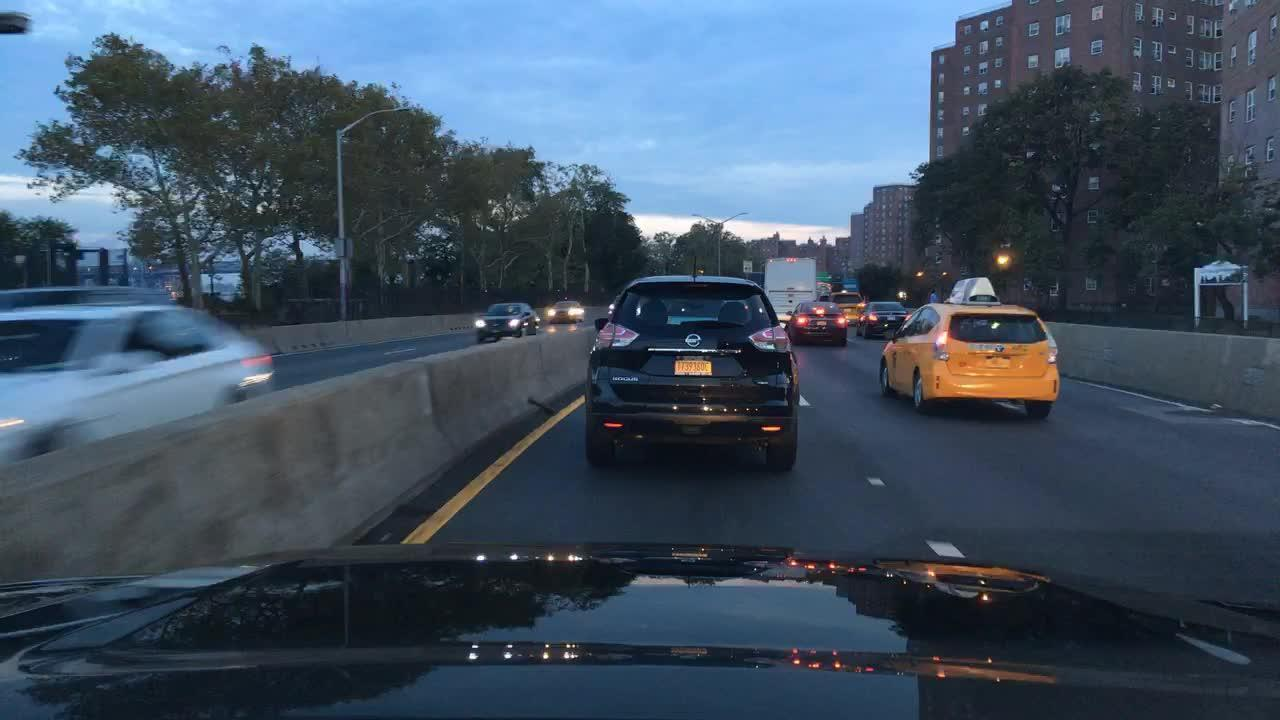Nissan: (684, 327, 705, 352)
